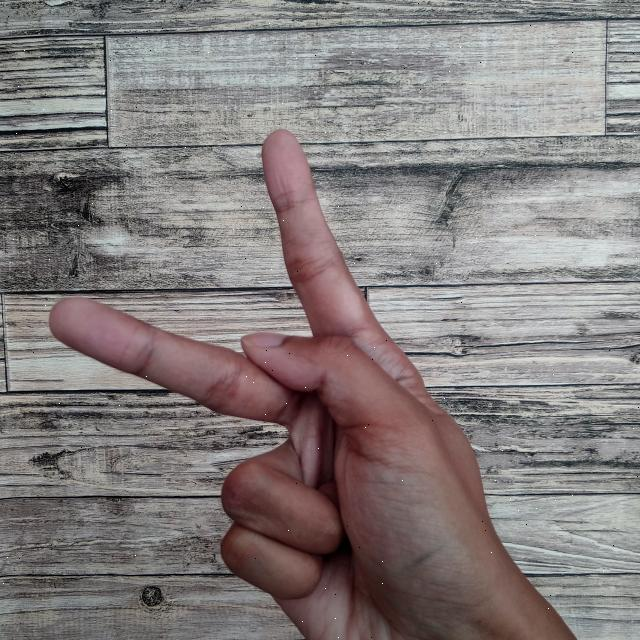K: (45, 120, 578, 640)
